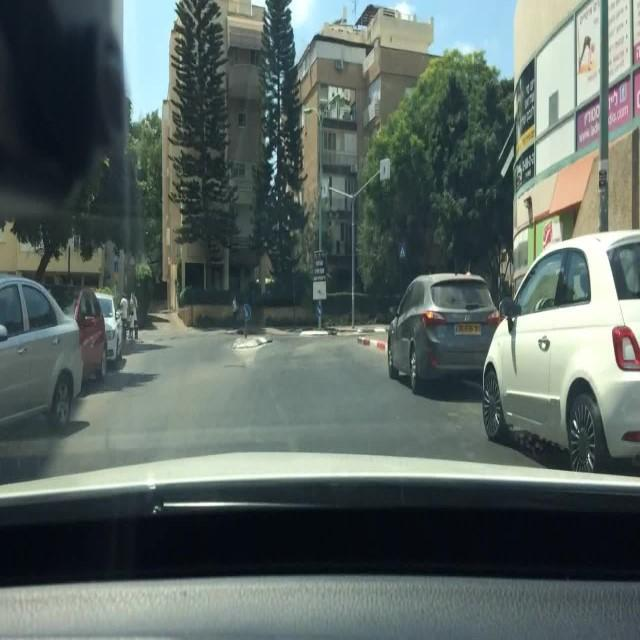normal: (482, 231, 640, 478), (0, 275, 96, 436), (384, 274, 501, 399), (45, 284, 123, 376)
